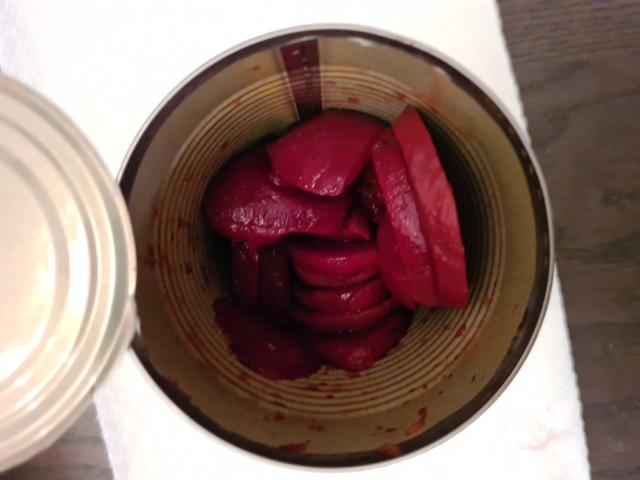kichen waste: (204, 108, 468, 380)
